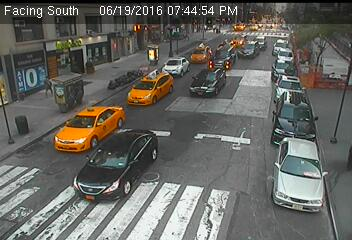neg: (93, 112, 118, 146), (127, 67, 146, 93)
pos: (37, 73, 57, 100)
